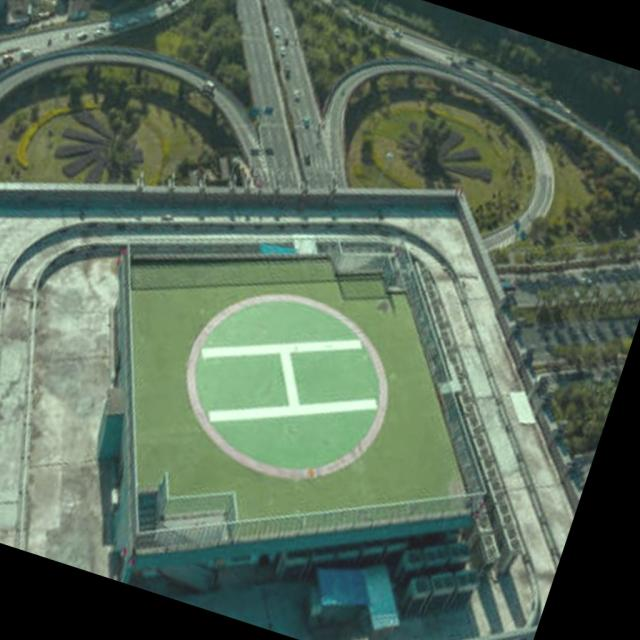helipad: (180, 287, 390, 484)
